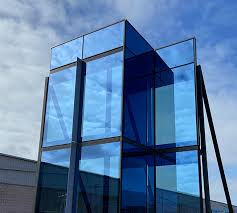glass panel: (82, 52, 122, 140), (155, 64, 196, 147), (78, 142, 120, 212), (156, 151, 199, 212), (43, 67, 75, 146), (38, 148, 69, 212), (83, 21, 123, 57), (156, 39, 193, 67), (51, 37, 82, 68)
